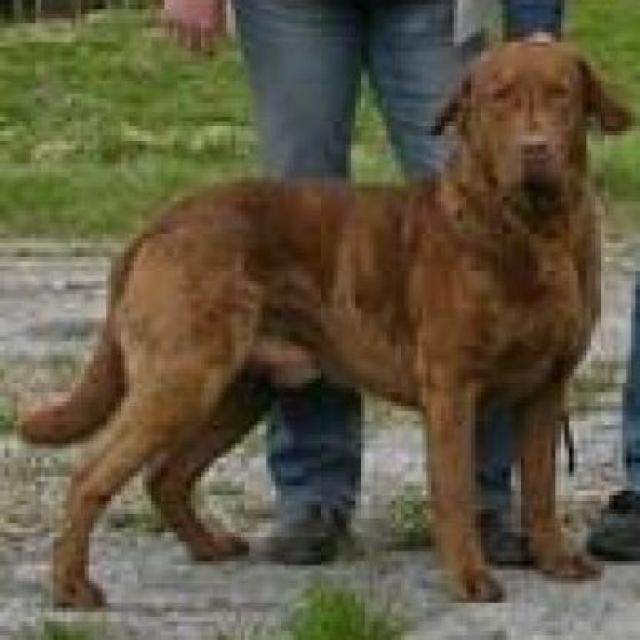Dog: (12, 23, 638, 620)
